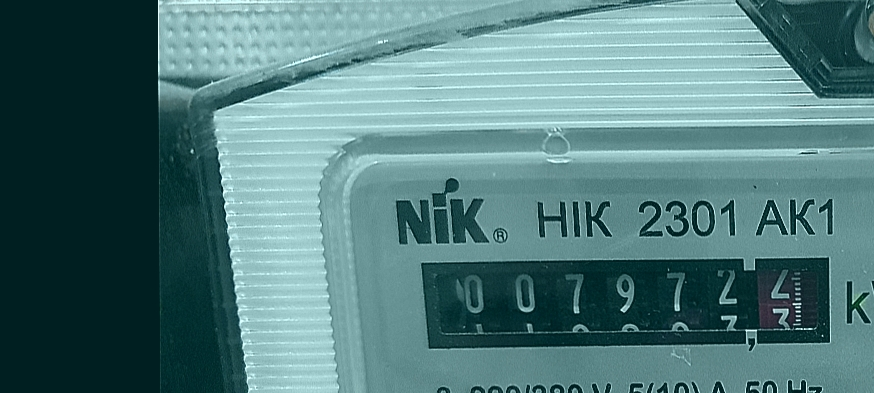0: (463, 272, 489, 314), (515, 271, 539, 313)
2: (718, 268, 741, 306), (770, 267, 793, 301)
3: (772, 305, 794, 330)
7: (666, 269, 691, 315), (565, 270, 589, 315)
9: (615, 271, 638, 314)
screen: (407, 245, 849, 362)
